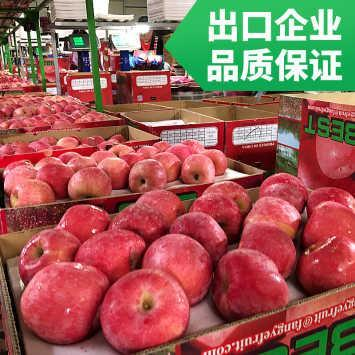apple: (18, 262, 108, 346), (99, 270, 188, 354), (142, 233, 213, 308), (213, 248, 284, 323), (187, 181, 250, 237), (17, 229, 79, 284), (126, 159, 166, 194), (180, 154, 213, 184), (202, 148, 227, 174)
